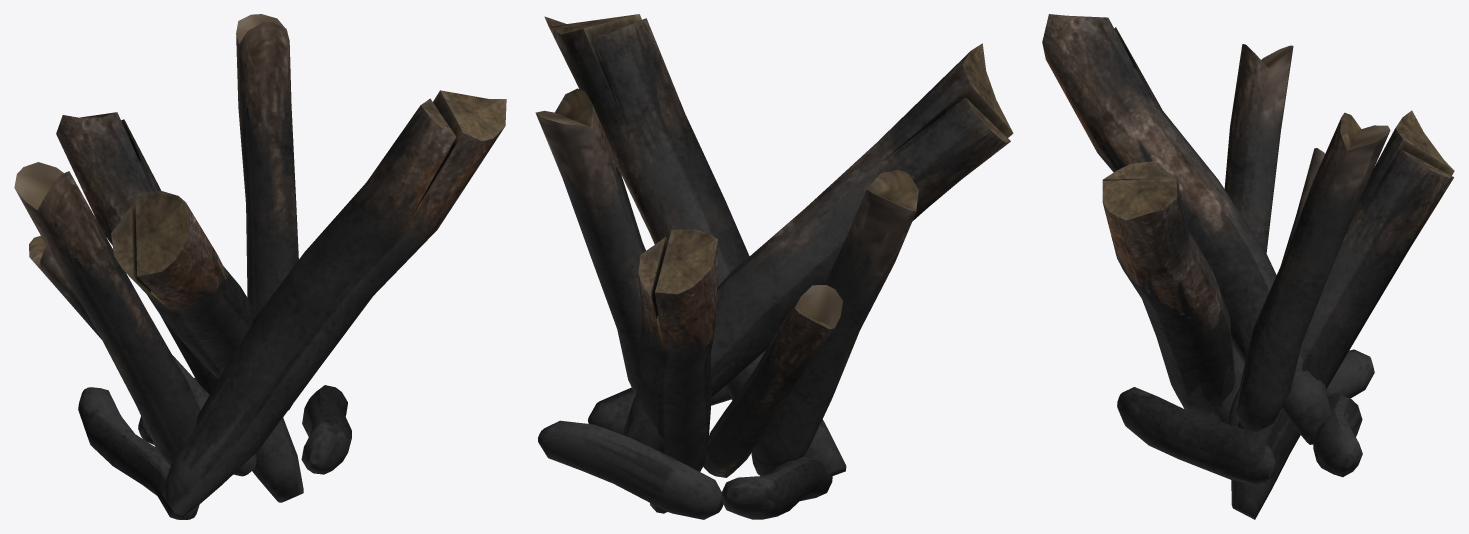
Rendered from JWC_Brazier_Kagaribi_A_01_Firewood.fbx.
The picture shows the model from 3 angles, left to right: view 1: azimuth 30°, elevation 25°; view 2: azimuth 150°, elevation 25°; view 3: azimuth 270°, elevation 25°; orthographic projection. The views are drawn at different scales.
Parts seen in each view (by area): view 1: JWC_Brazier_Kagaribi_A_01_Firewood; view 2: JWC_Brazier_Kagaribi_A_01_Firewood; view 3: JWC_Brazier_Kagaribi_A_01_Firewood.
Boxes of the visible parts, bbox=[...] form: JWC_Brazier_Kagaribi_A_01_Firewood: bbox=[14, 14, 506, 519]; JWC_Brazier_Kagaribi_A_01_Firewood: bbox=[535, 14, 1013, 519]; JWC_Brazier_Kagaribi_A_01_Firewood: bbox=[1042, 14, 1454, 519].
Size of the model in its own units: 0.4819 by 0.4758 by 0.4253.
